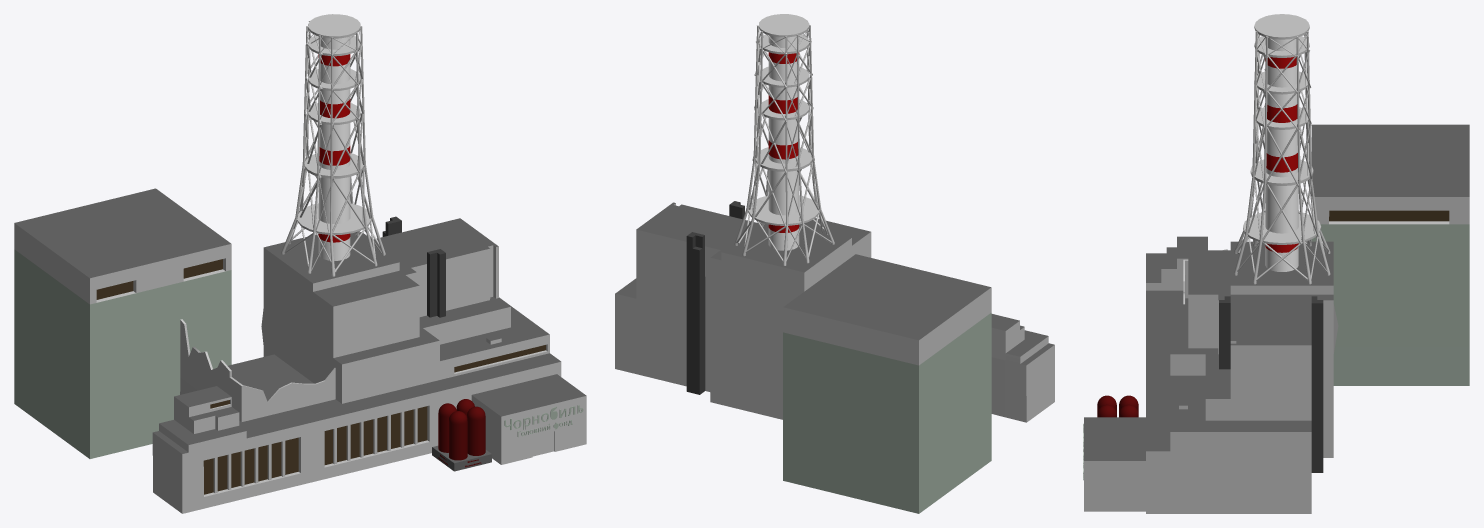
File: ChernobylFin.fbx
The picture shows the model from 3 angles, left to right: view 1: azimuth 30°, elevation 25°; view 2: azimuth 150°, elevation 25°; view 3: azimuth 270°, elevation 25°; orthographic projection. The views are drawn at different scales.
Visible parts, largest first — view 1: pCube28, pSphere7, pCube29; view 2: pCube28; view 3: pCube28, pSphere7.
Boxes of the visible parts, left/top/right/bottom form: pCube28: left=14, top=14, right=586, bottom=513; pSphere7: left=438, top=399, right=485, bottom=460; pCube29: left=432, top=445, right=491, bottom=471; pCube28: left=615, top=14, right=1054, bottom=513; pCube28: left=1084, top=14, right=1469, bottom=513; pSphere7: left=1097, top=395, right=1138, bottom=417.
Size of the model in its own units: 85.78 by 81.09 by 70.
